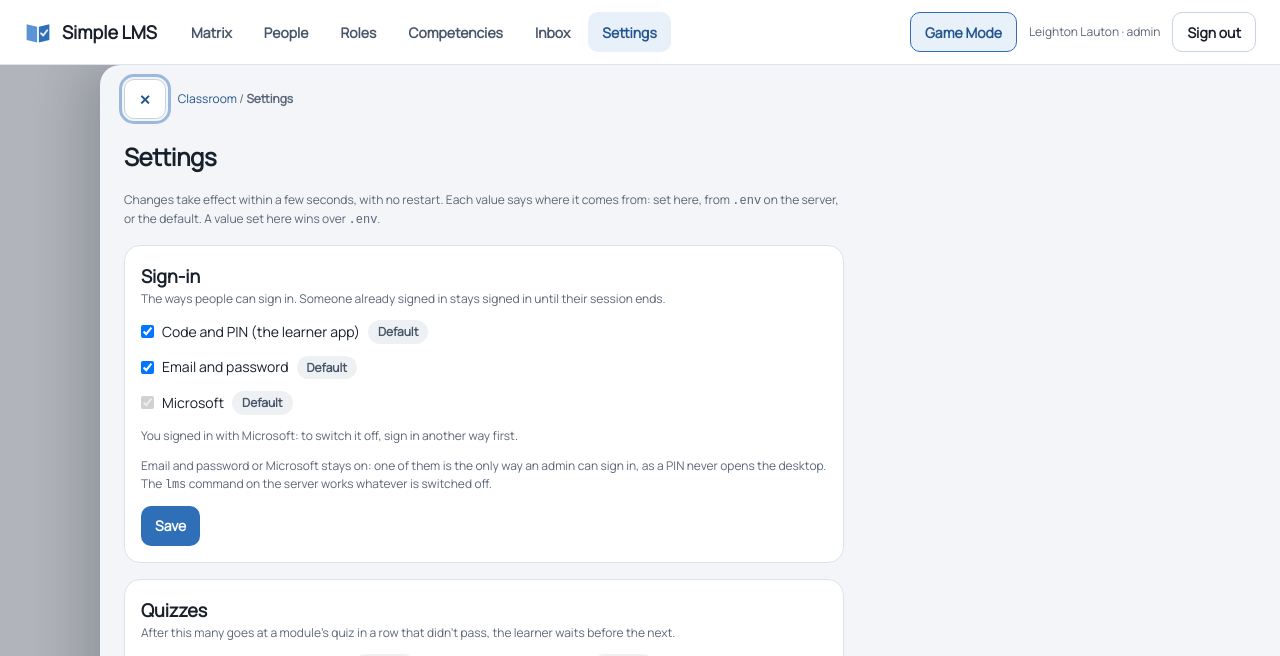
Test case: Microsoft in Settings › says why a change was refused
Click the checkbox labelled "Email and password Default" at (148,367), box [141,361,154,374]
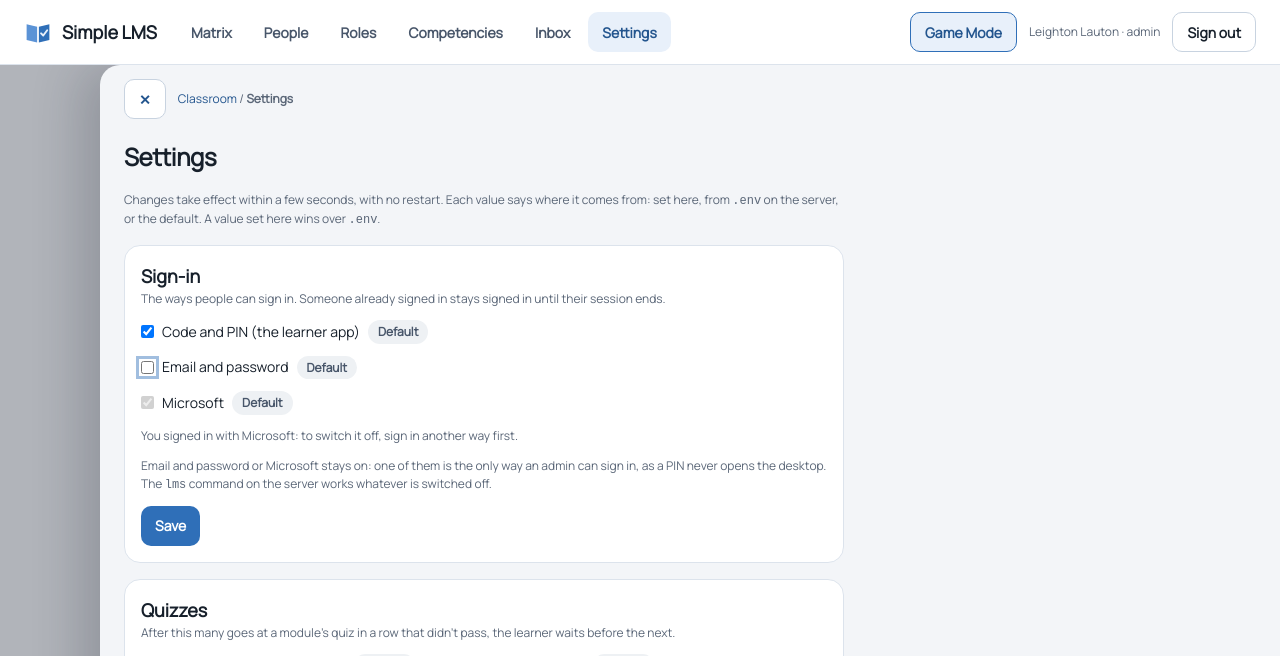
Click the button "Save" at (171,526), box [141,506,200,546]
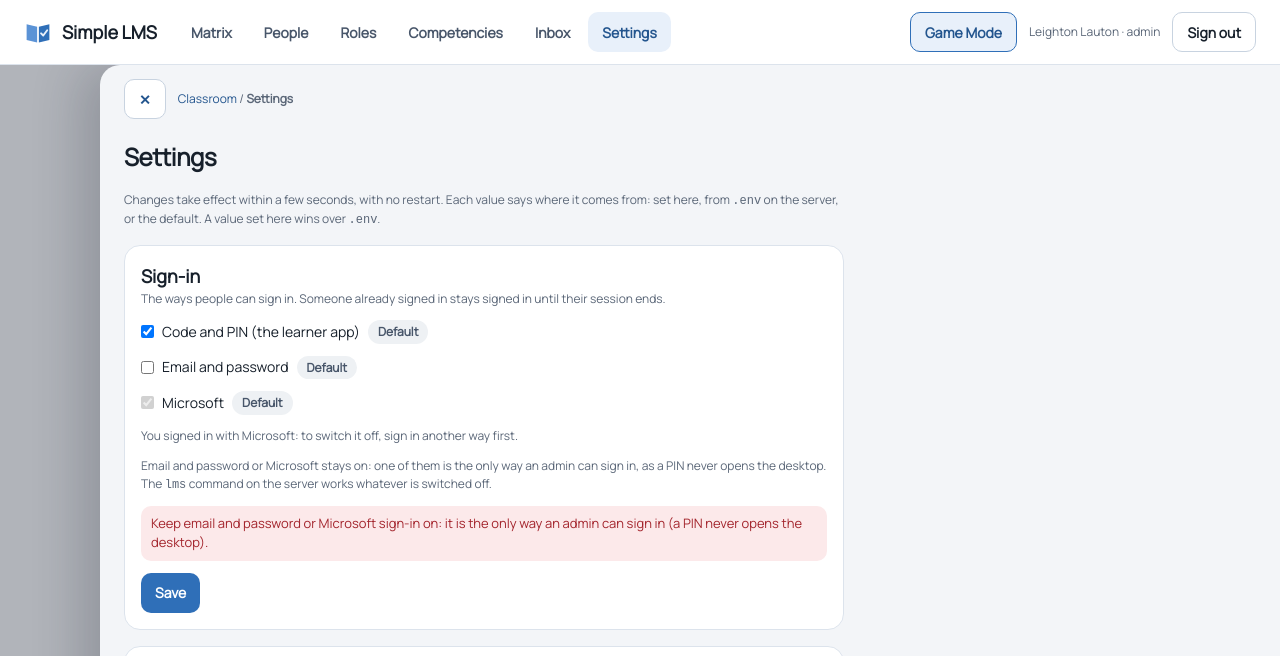
Result: the message shows "a PIN never opens the desktop" at [151,514,802,551]
